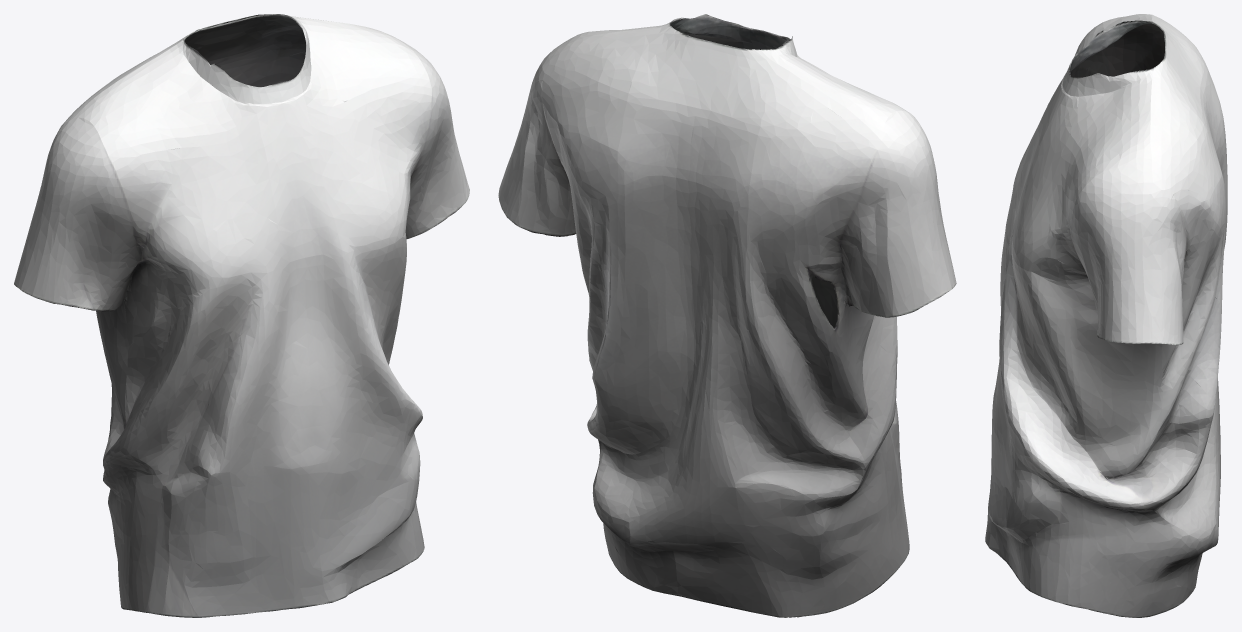
File: tee-essential.glb
3 renders of one model, left to right at view 1: azimuth 30°, elevation 25°; view 2: azimuth 150°, elevation 25°; view 3: azimuth 270°, elevation 25°, orthographic. The views are drawn at different scales.
Visible parts, largest first — view 1: world; view 2: world; view 3: world.
Part boxes in pixels (bbox=[...]): world: bbox=[14, 14, 469, 617]; world: bbox=[498, 14, 956, 617]; world: bbox=[985, 14, 1227, 617].
Size of the model in its own units: 0.85 by 1 by 0.4203.
1 material, 1 textured.
